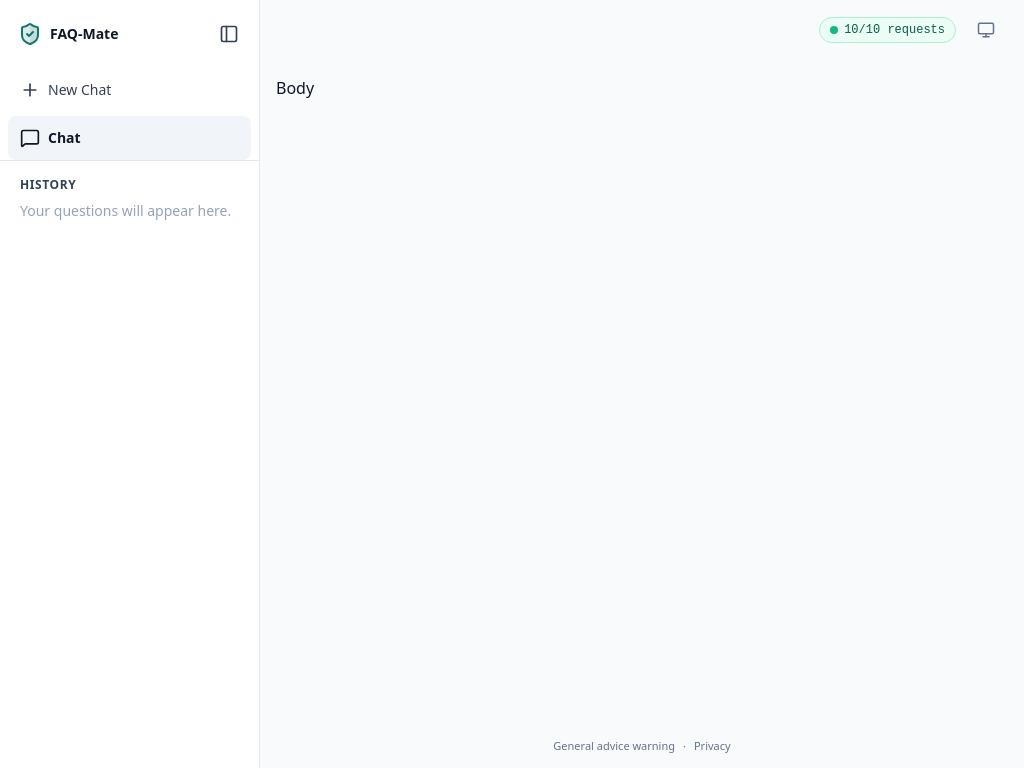
Test: Responsive navigation › aligns the collapsed History button with the other navigation buttons
What coordinates should you click on to do the following:
click the button named "Collapse sidebar"
I would click on:
 (229, 34)
Its box is [207,12,251,56].
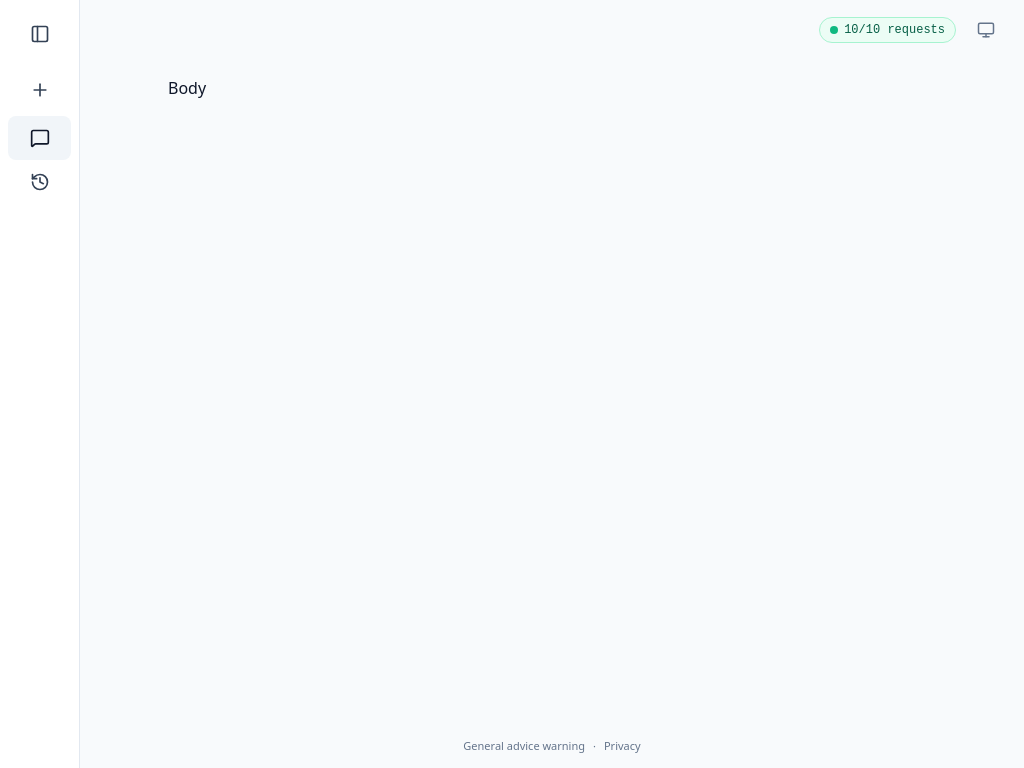
Result: the button named "History" is shown at [8,160,71,204]
